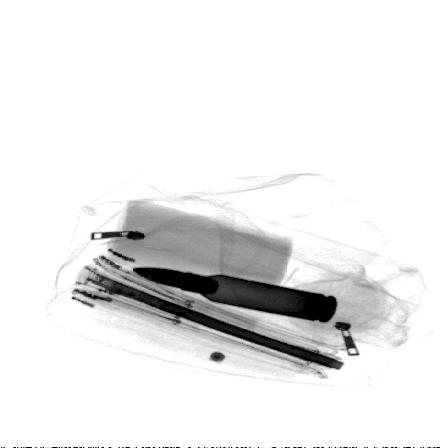Bullet: (128, 266, 339, 325)
